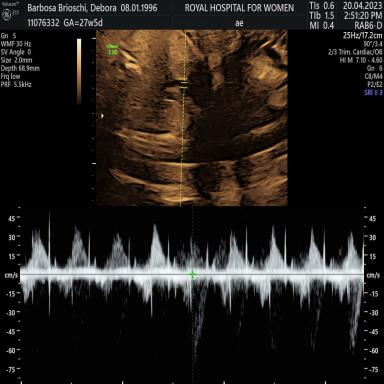Ultrasound-Waves: (28, 208, 362, 384)
